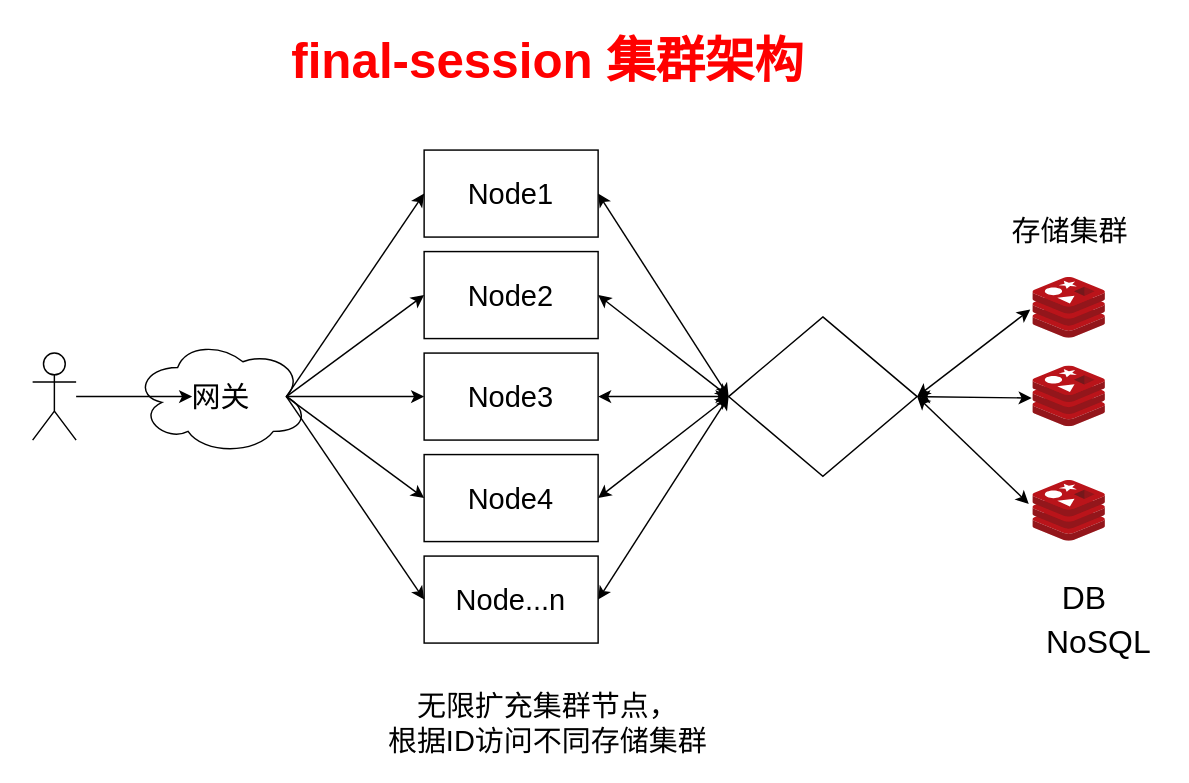
Some shapes in this 1189 by 783 pixel diagram are drawn without their labels. The shapes that lost their labels are listed below. From the top down, each one's centre as x and y in pixels, then its label:
At point 53,396: "用户".
At point 822,395: "ID 负载算法".
